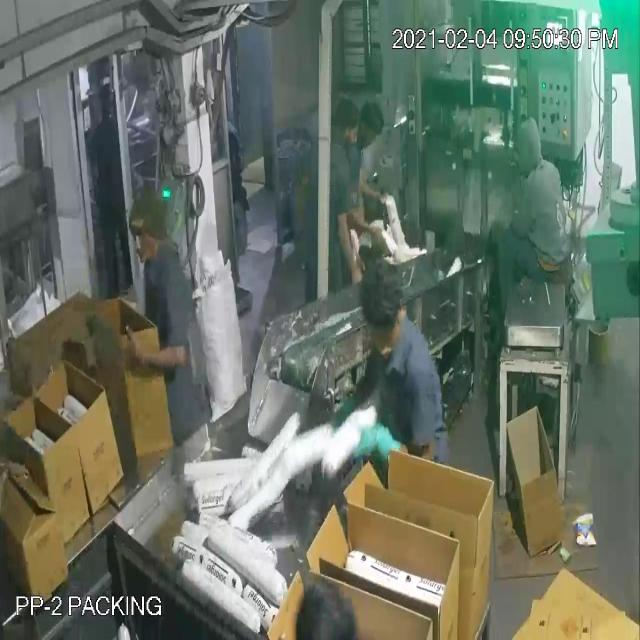gloves: (346, 423, 406, 476)
no-gloves: (107, 310, 191, 391), (333, 207, 365, 284), (345, 188, 385, 248), (352, 163, 386, 213)
